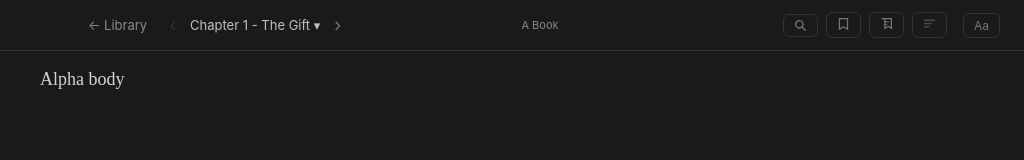
Scenario: EpubReader — TOC-driven chapter list › does not add its own numbers when the book already self-numbers its labels
Expected: the text "Alpha body" is shown, [40, 69, 124, 89]
Step 1. Click the button "Chapter 1 - The Gift ▾" → click(255, 25), box [188, 13, 322, 37]
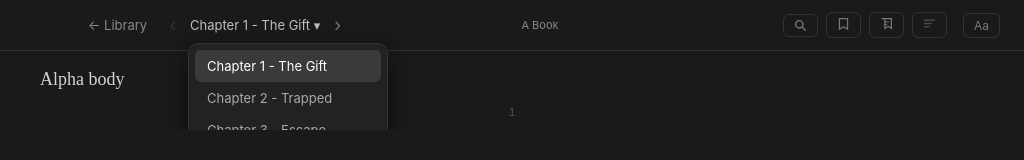
Now the button "Chapter 2 - Trapped" is shown, box [195, 82, 381, 114]
